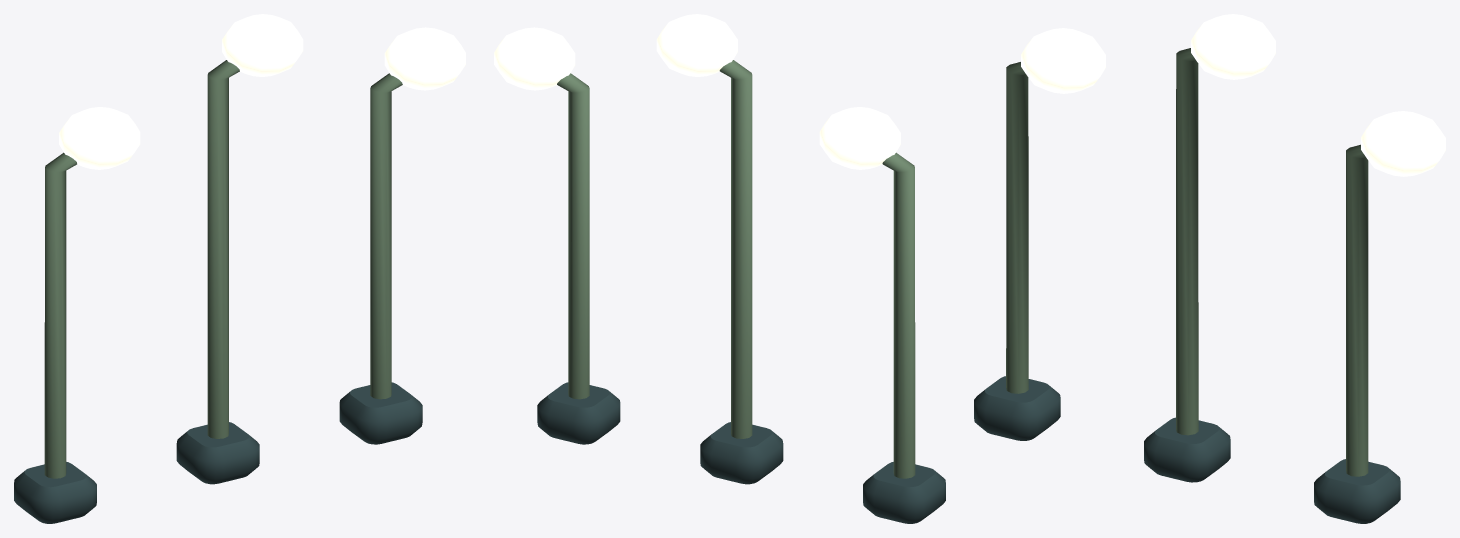
Rendered from lights_3.glb.
The picture shows the model from 3 angles, left to right: view 1: azimuth 30°, elevation 25°; view 2: azimuth 150°, elevation 25°; view 3: azimuth 330°, elevation 25°; orthographic projection. The views are drawn at different scales.
Parts seen in each view (by area): view 1: Lights; view 2: Lights; view 3: Lights.
Boxes of the visible parts, box(x1,y1,x2,y2) form: Lights: box(14, 14, 465, 523); Lights: box(494, 14, 945, 523); Lights: box(974, 14, 1445, 523).
Size of the model in its own units: 3.36 by 3.24 by 0.5265.
